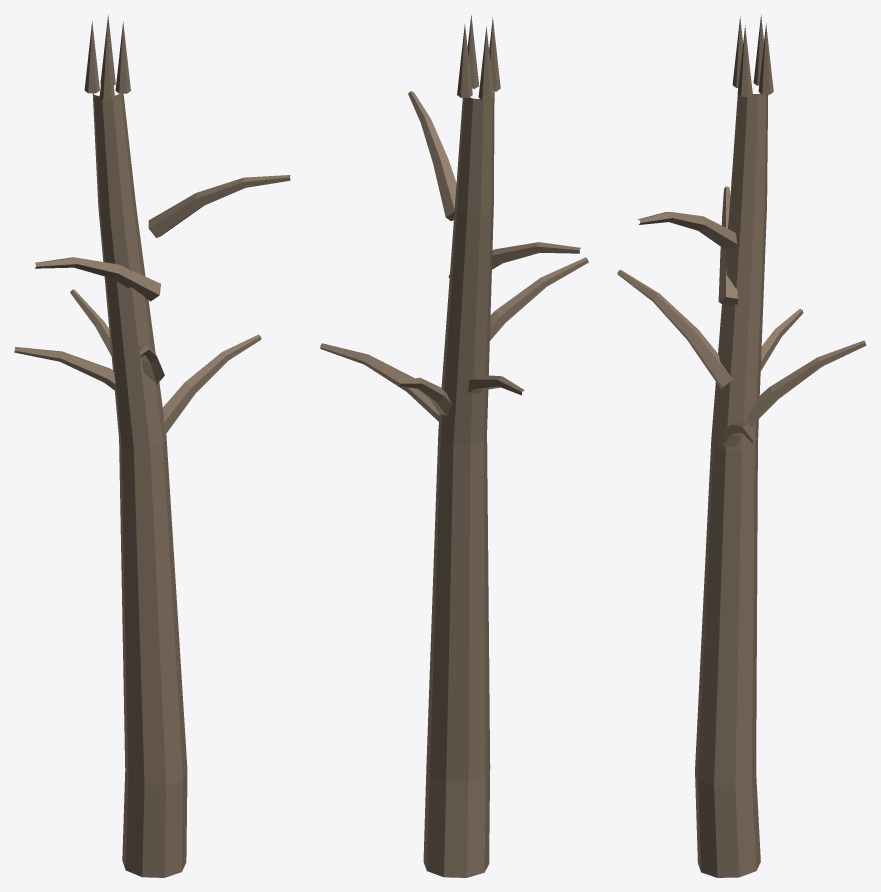
File: nature_dead_snag_tall.glb
3 renders of one model, left to right at view 1: azimuth 30°, elevation 25°; view 2: azimuth 150°, elevation 25°; view 3: azimuth 270°, elevation 25°, orthographic. The views are drawn at different scales.
Visible parts, largest first — view 1: world; view 2: world; view 3: world.
Boxes of the visible parts, box(x1,y1,x2,y2) form: world: box(14, 14, 290, 877); world: box(320, 15, 588, 877); world: box(617, 14, 866, 877).
Bounding box in the file's own units: 0.5963 × 2 × 0.5447.
